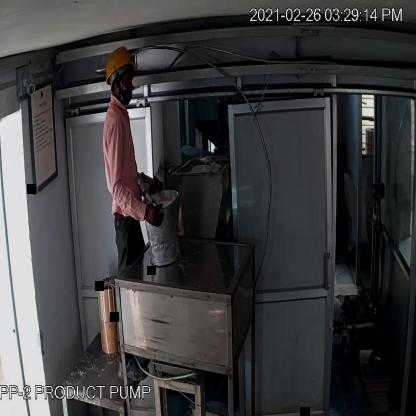helmet: (102, 45, 142, 84)
